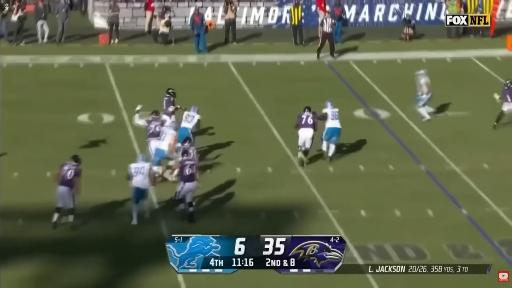Helmet: (181, 148, 191, 158), (182, 137, 192, 146), (71, 155, 81, 164), (166, 88, 176, 97), (166, 121, 174, 131), (136, 154, 145, 162), (504, 79, 512, 87), (151, 110, 160, 117), (416, 70, 426, 76), (325, 101, 333, 108), (191, 106, 198, 113), (303, 106, 311, 112)
Jersey: (129, 162, 151, 189), (59, 163, 81, 189), (179, 158, 197, 183), (159, 127, 176, 151), (146, 118, 164, 140), (322, 108, 341, 128), (181, 112, 200, 129), (297, 113, 317, 129), (163, 96, 175, 121), (418, 76, 430, 94), (162, 112, 175, 128), (164, 96, 175, 112), (502, 87, 511, 103)
Player: (52, 155, 81, 228), (127, 154, 155, 224), (174, 147, 198, 222), (133, 105, 165, 159), (152, 122, 177, 176), (319, 101, 341, 161), (296, 106, 317, 165), (416, 70, 434, 121), (178, 106, 200, 146), (494, 79, 511, 129), (163, 88, 182, 121), (180, 137, 198, 160)
